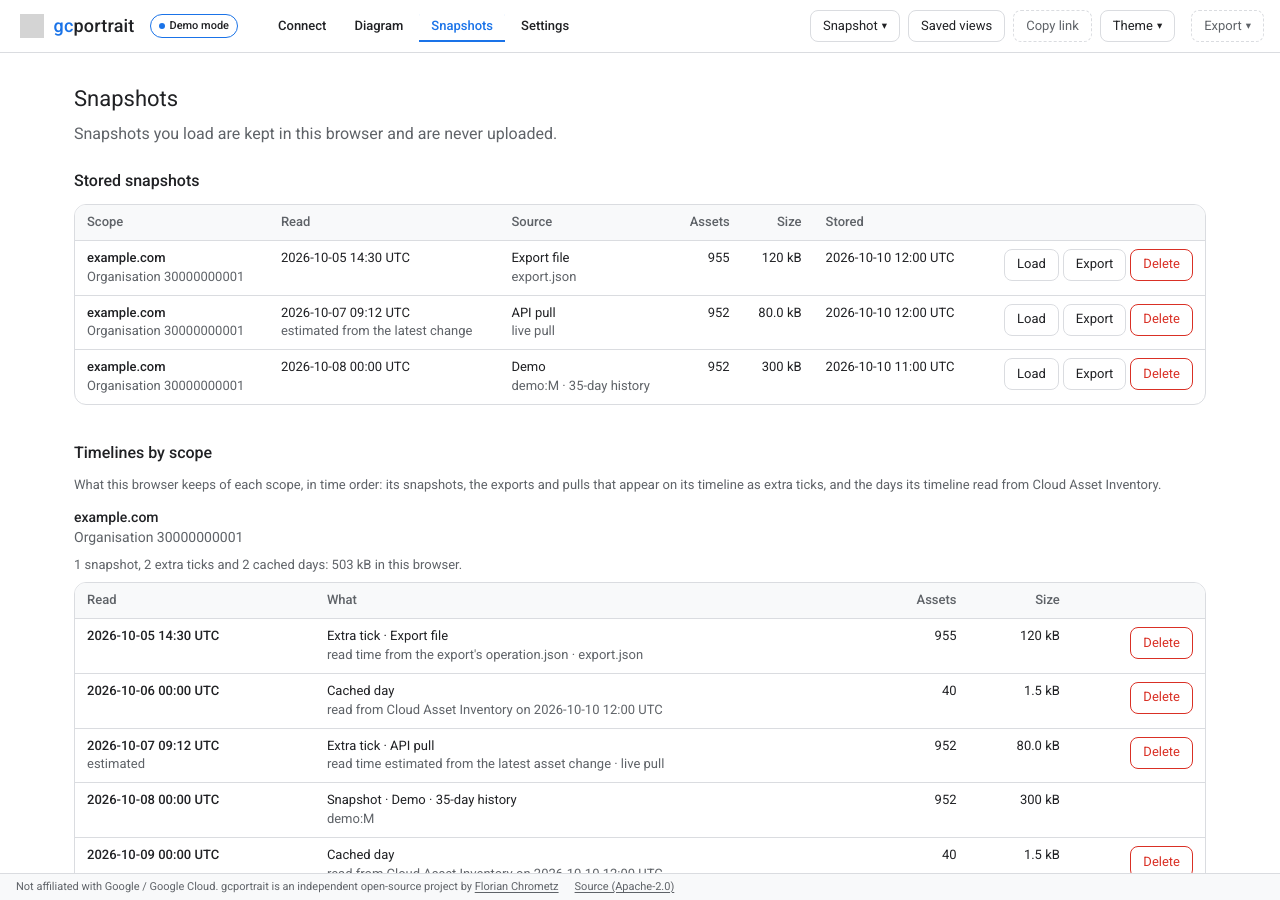
it: the timelines by scope › deletes a cached day at once, and a scope’s cached days after a confirmation
The image size is (1280, 900).
Click the button named "Delete the cached day 2026-10-06 of example.com (Organisation 30000000001)" at (1162, 698), box [1130,682,1193,714]
(page scrolled)
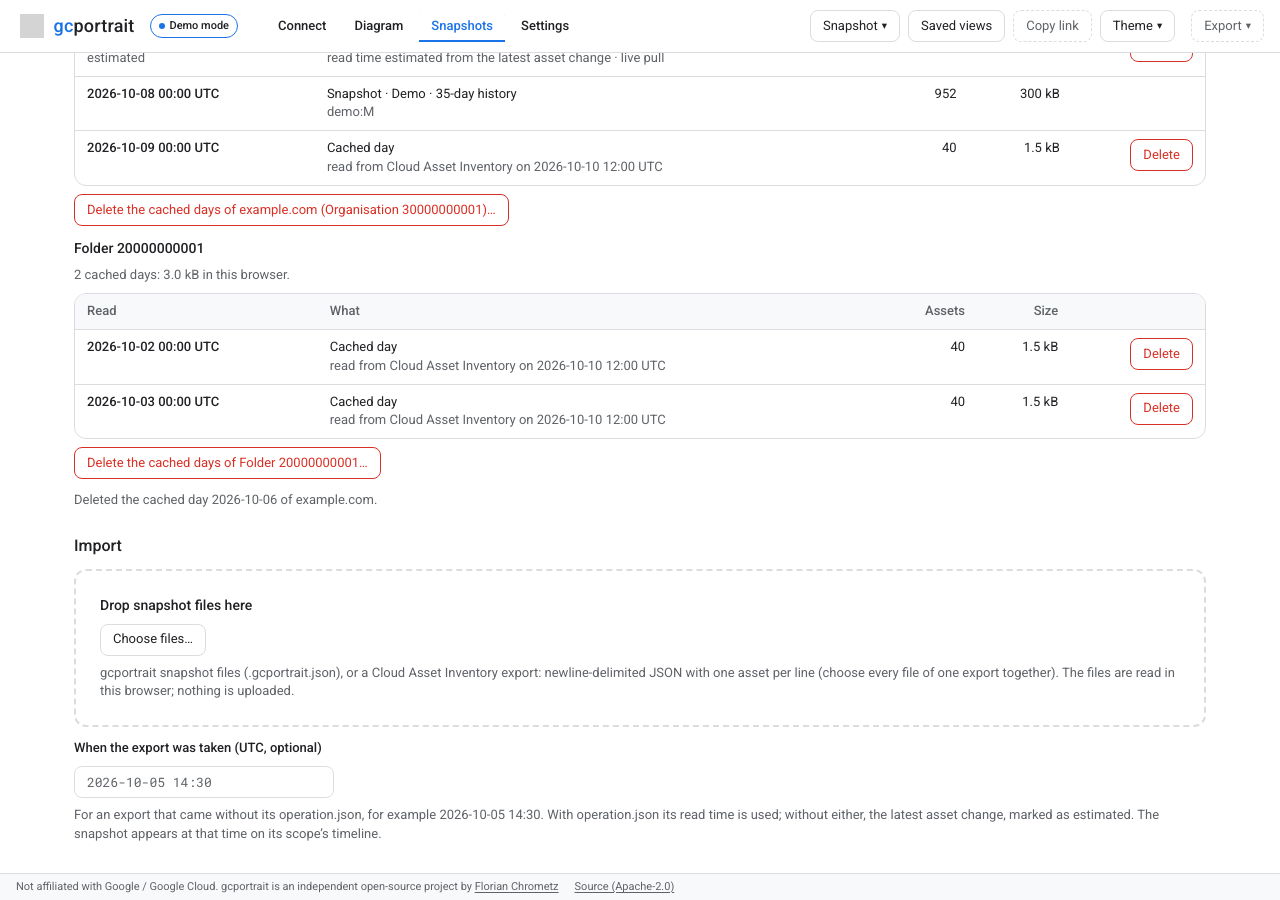
Now the message reads "Deleted the cached day 2026-10-06 of example.com.", box [74,492,377,507]
Click the button "Delete the cached days of Folder 20000000001…" at (227, 463), box [74,447,381,479]
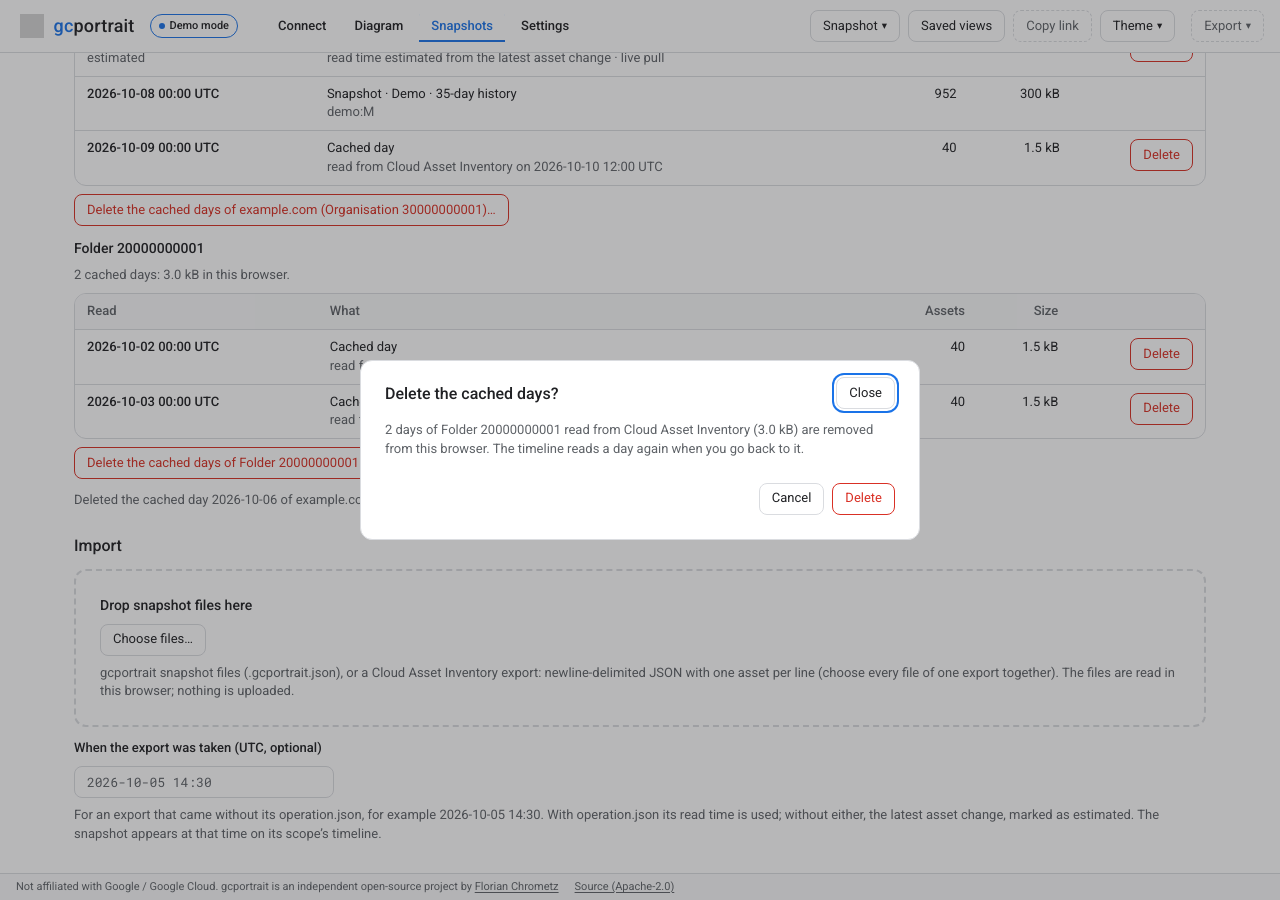
Now the dialog "Delete the cached days?" shows "2 days of Folder 20000000001 read from Cloud Asset Inventory (3.0 kB)", box [385,422,873,456]
Click the button "Delete" at (864, 499), box [832,483,895,515]
(page scrolled)
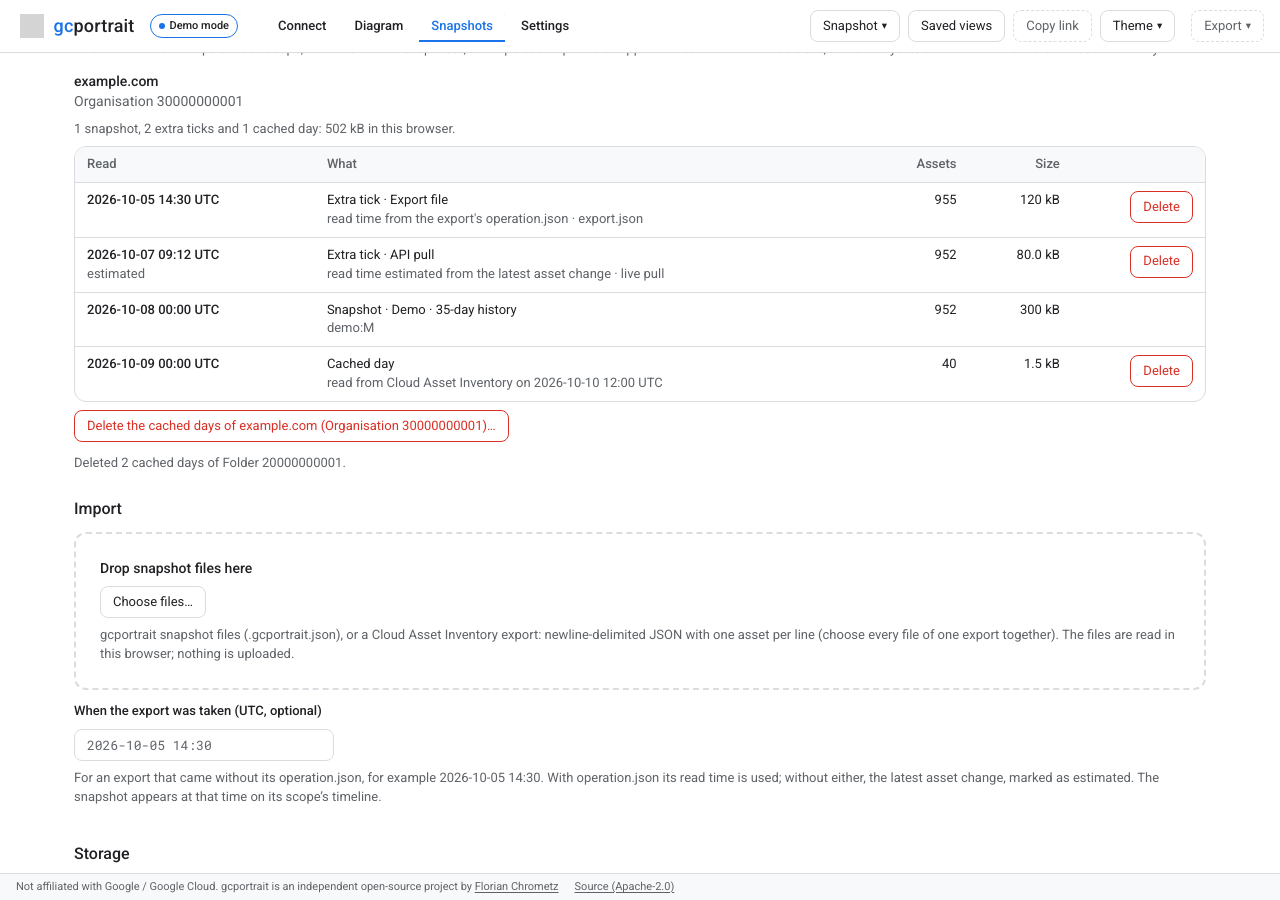
Now the message reads "Deleted 2 cached days of Folder 20000000001.", box [74,455,346,470]
